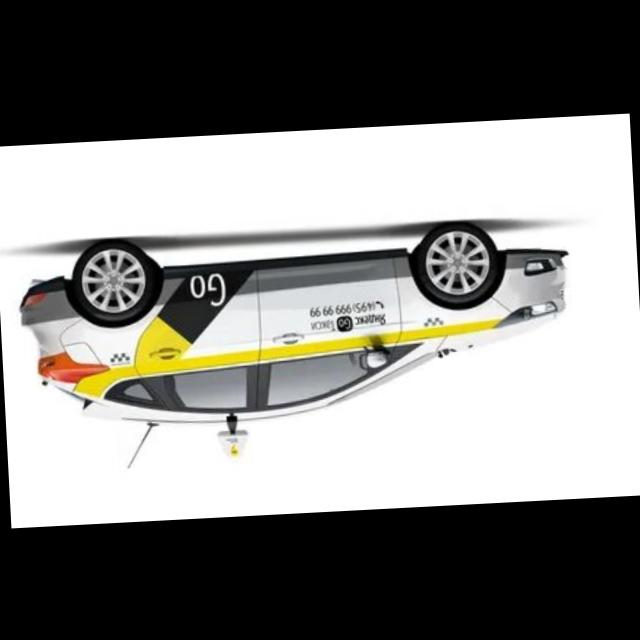taxi: (16, 215, 579, 477)
